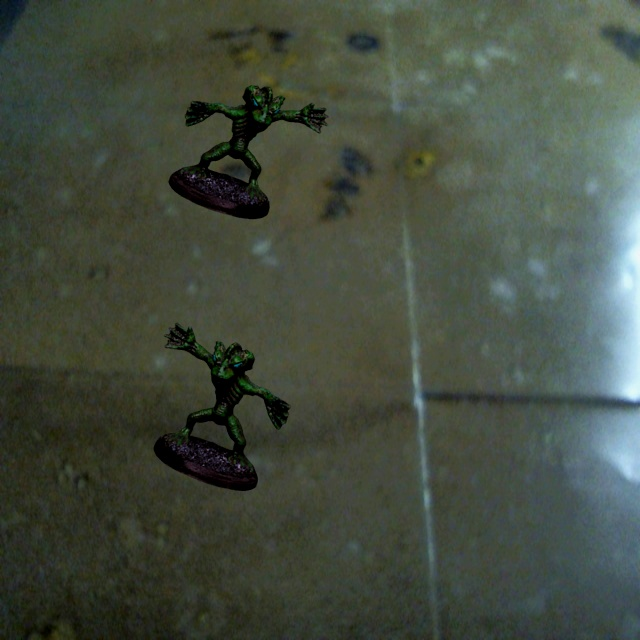pieza_juego: (154, 323, 290, 490), (168, 85, 328, 218)
